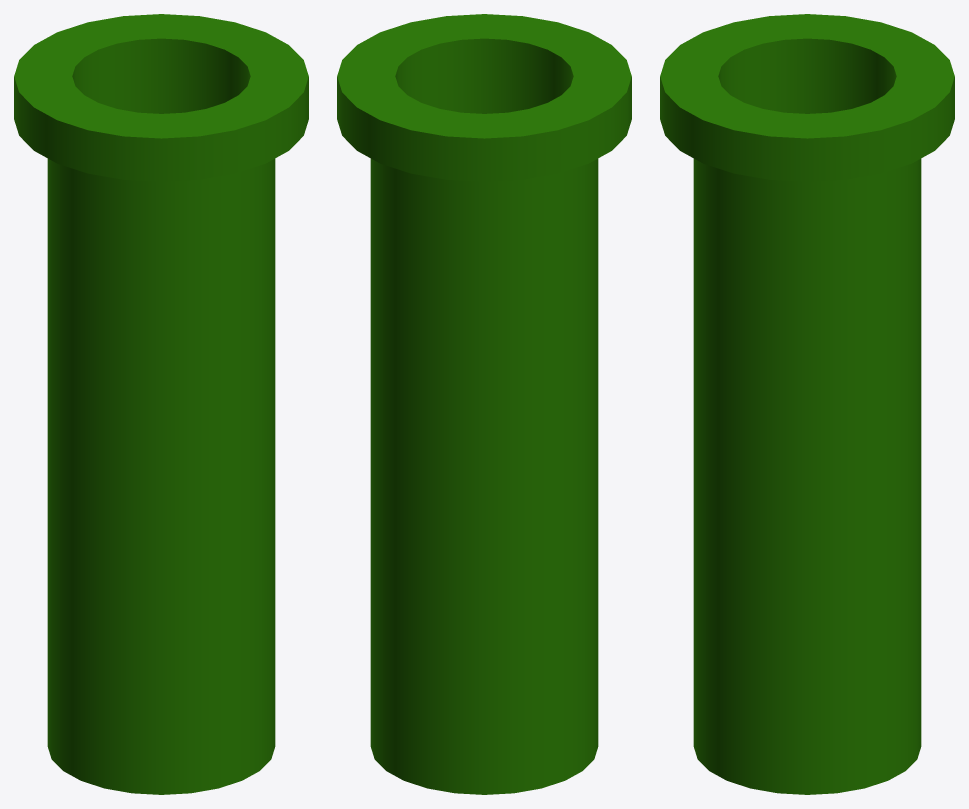
The model's file is MarioPipe.fbx.
3 renders of one model, left to right at view 1: azimuth 30°, elevation 25°; view 2: azimuth 150°, elevation 25°; view 3: azimuth 270°, elevation 25°, orthographic.
Parts seen in each view (by area): view 1: MarioPipe; view 2: MarioPipe; view 3: MarioPipe.
Boxes of the visible parts, bbox=[...] form: MarioPipe: bbox=[14, 14, 308, 794]; MarioPipe: bbox=[337, 14, 631, 794]; MarioPipe: bbox=[660, 14, 954, 794].
Size of the model in its own units: 259 by 651 by 259.
